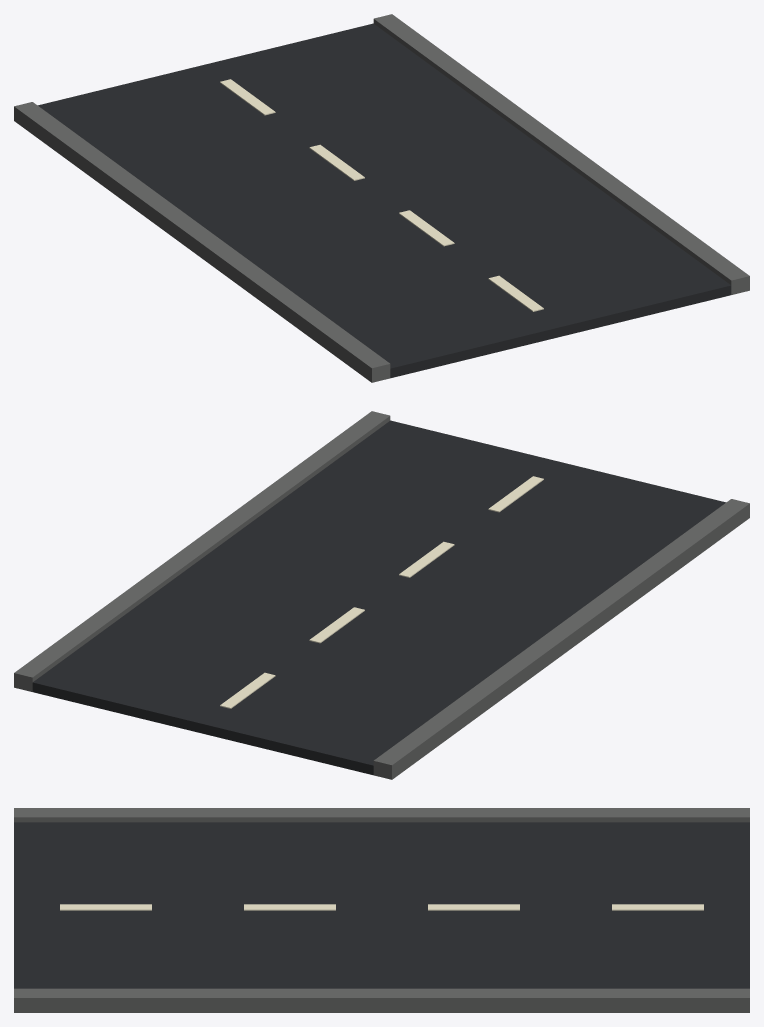
File: road_highway_straight.glb
The picture shows the model from 3 angles, top to bottom: view 1: azimuth 30°, elevation 25°; view 2: azimuth 150°, elevation 25°; view 3: azimuth 270°, elevation 25°; orthographic projection. The views are drawn at different scales.
Visible parts, largest first — view 1: body; view 2: body; view 3: body.
Boxes of the visible parts, <box> form: body: <box>14,14,749,382</box>; body: <box>14,411,749,779</box>; body: <box>14,808,749,1012</box>.
Size of what is drawn, in the model's own units: 4.88 by 0.18 by 8.
